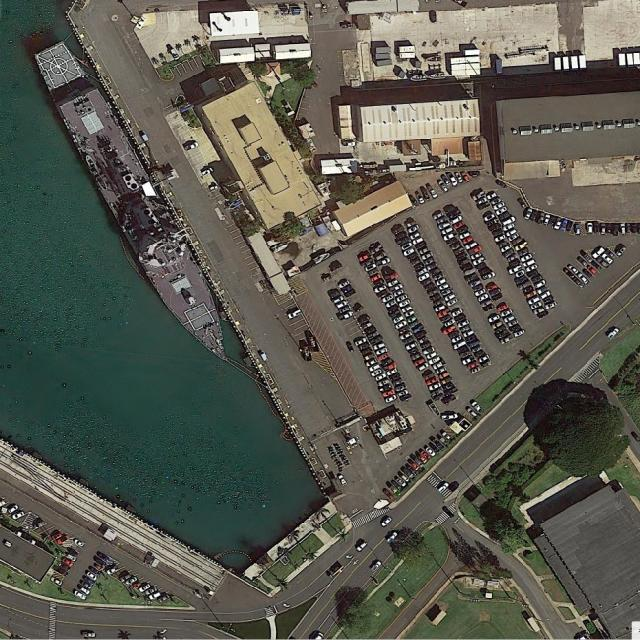Destroyer: (28, 36, 244, 372)
